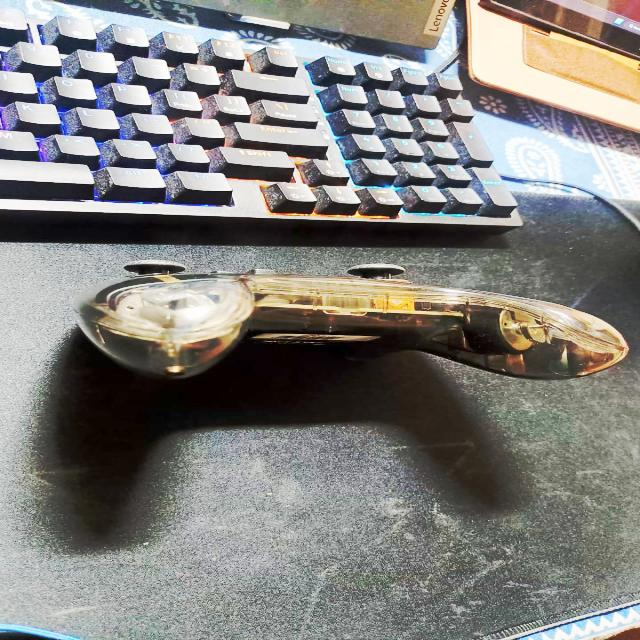gamepad: (13, 262, 639, 512)
